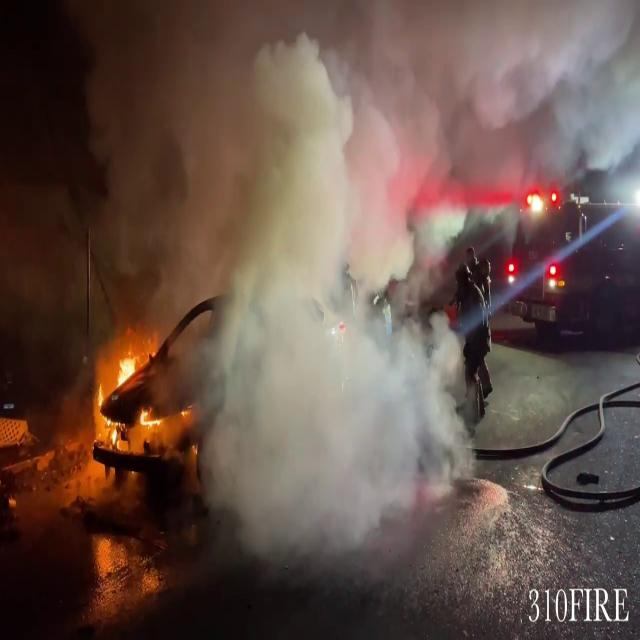Fire: (90, 340, 165, 457)
Smoke: (5, 0, 483, 549)
